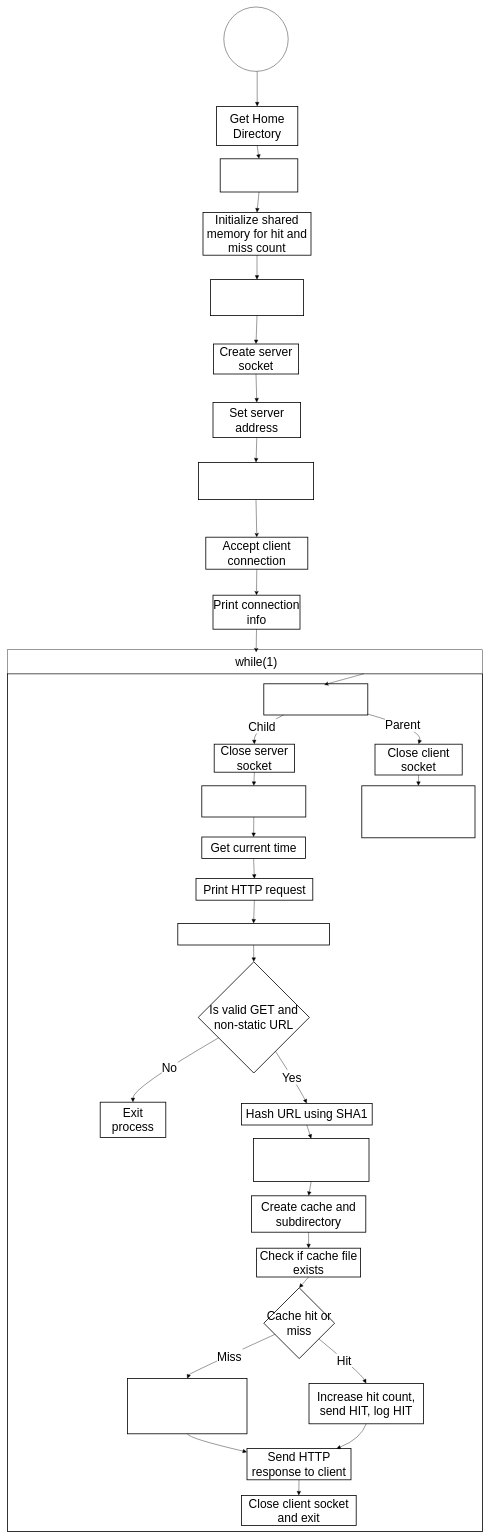
The diagram is 490 pixels wide and 1539 high, and some of its shapes have lost their labels. The shapes that lost their labels are listed below. From the top down, each one's centre as x and y in pixels, then its label:
(x=255, y=39): Program Start
(x=259, y=175): Create log directory
(x=257, y=297): Register SIGINT handler
(x=256, y=481): Bind and listen for clients
(x=315, y=699): Create new process using fork
(x=253, y=801): Read HTTP request from client
(x=418, y=811): Clean up zombie children using waitpid
(x=253, y=934): Parse method and URL
(x=311, y=1160): Split hash into directory name and file name
(x=187, y=1406): Increase miss count, create cache file, send MISS, log MISS
